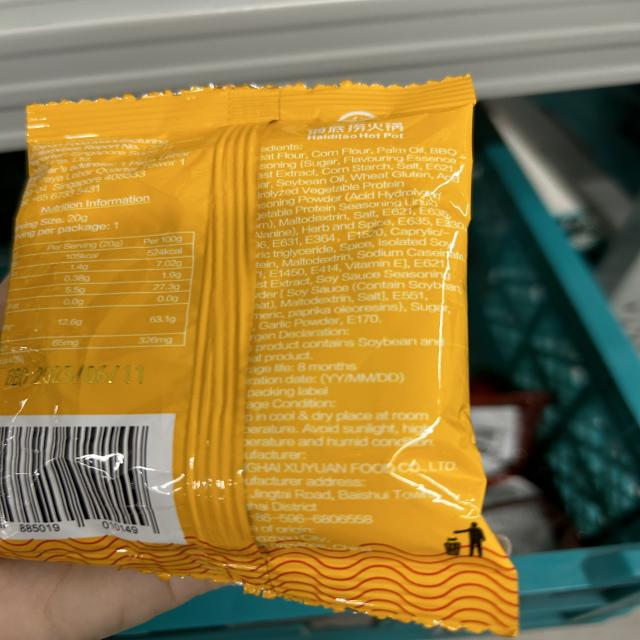object_name: (23, 106, 472, 591)
